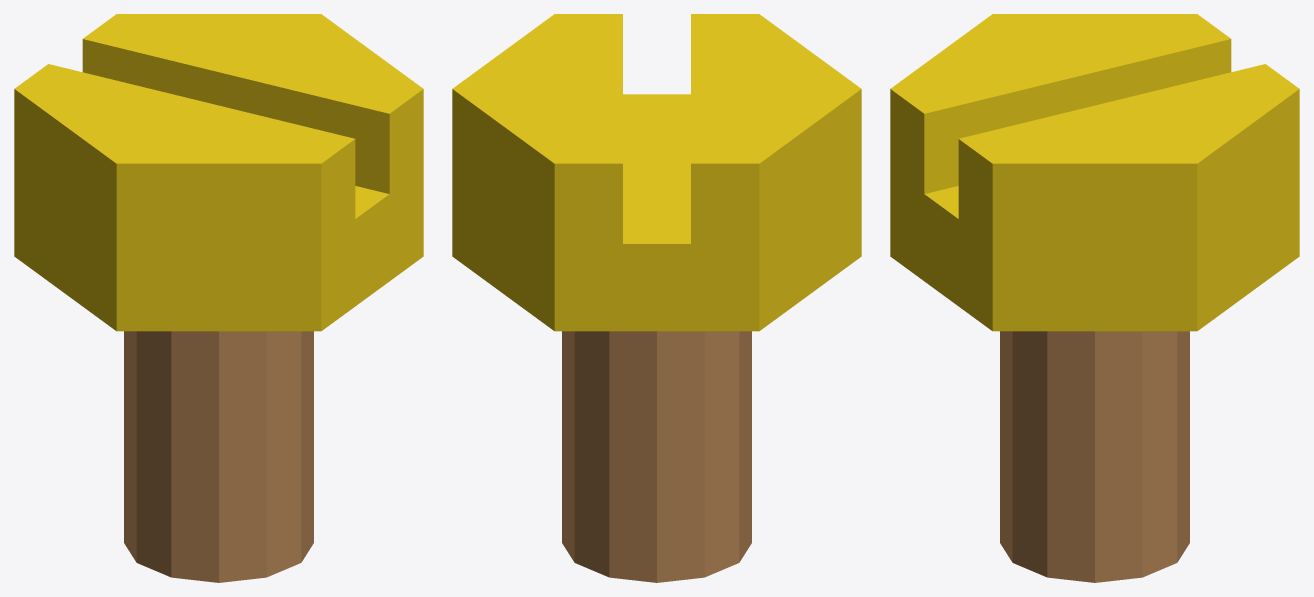
Rendered from screw.fbx.
3 views of the same model, side by side, from view 1: azimuth 30°, elevation 25°; view 2: azimuth 150°, elevation 25°; view 3: azimuth 270°, elevation 25° (orthographic).
Parts seen in each view (by area): view 1: Screw; view 2: Screw; view 3: Screw.
Part boxes in pixels (x1,y1,x2,y2): Screw: (14,14,423,582); Screw: (452,14,861,582); Screw: (890,14,1299,582).
Size of the model in its own units: 5.64 by 7.97 by 6.51.
Materials: 1 (1 with a texture image).
